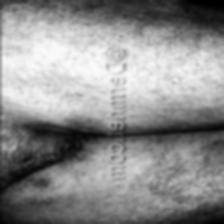Potentially Malignant Skin Tumors: (152, 139, 224, 203), (114, 23, 196, 78)
